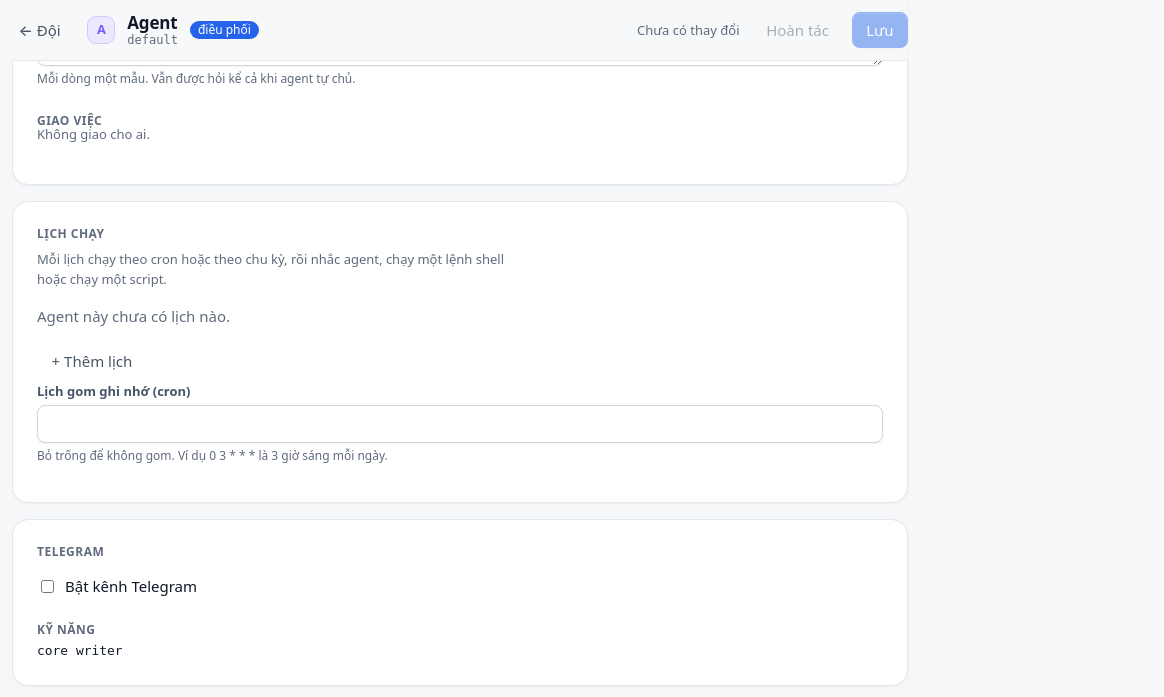
it: the schedules part of the agent editor › saves a new row as exactly one timing and one action, with no kind
The width and height of the screenshot is (1164, 697).
(page scrolled)
Click the button "+ Thêm lịch" at (92, 361), box [37,341,147,381]
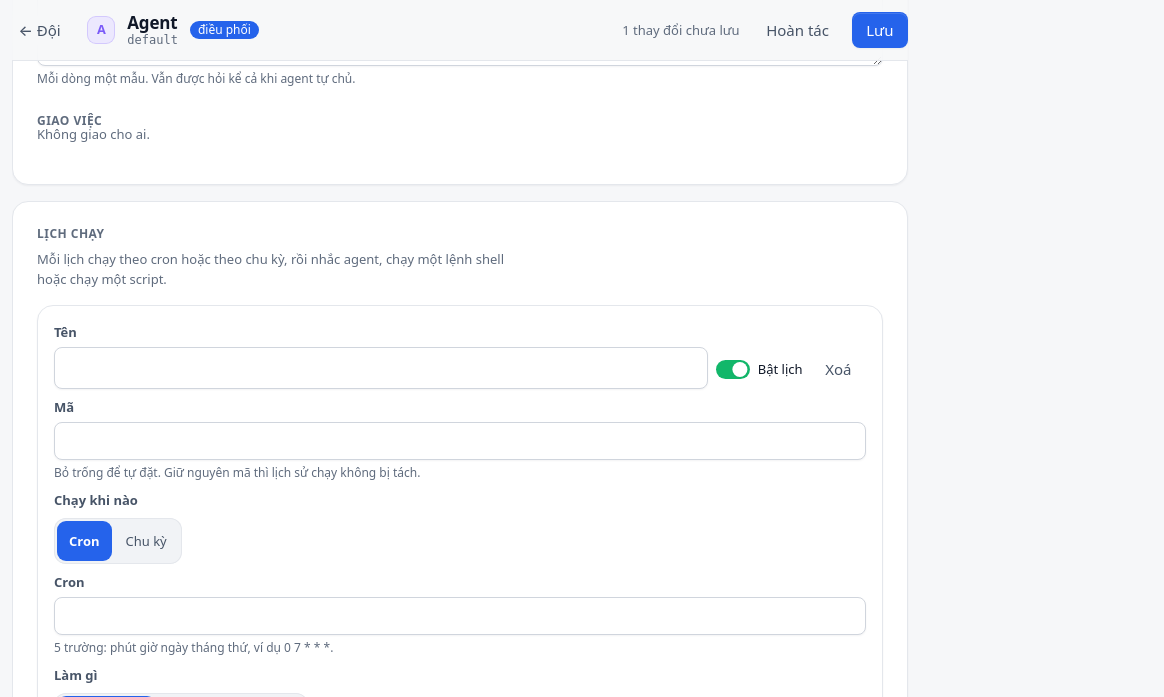
Type "Bản tin" into the field labelled "Tên" at (381, 368), box [54,347,708,389]
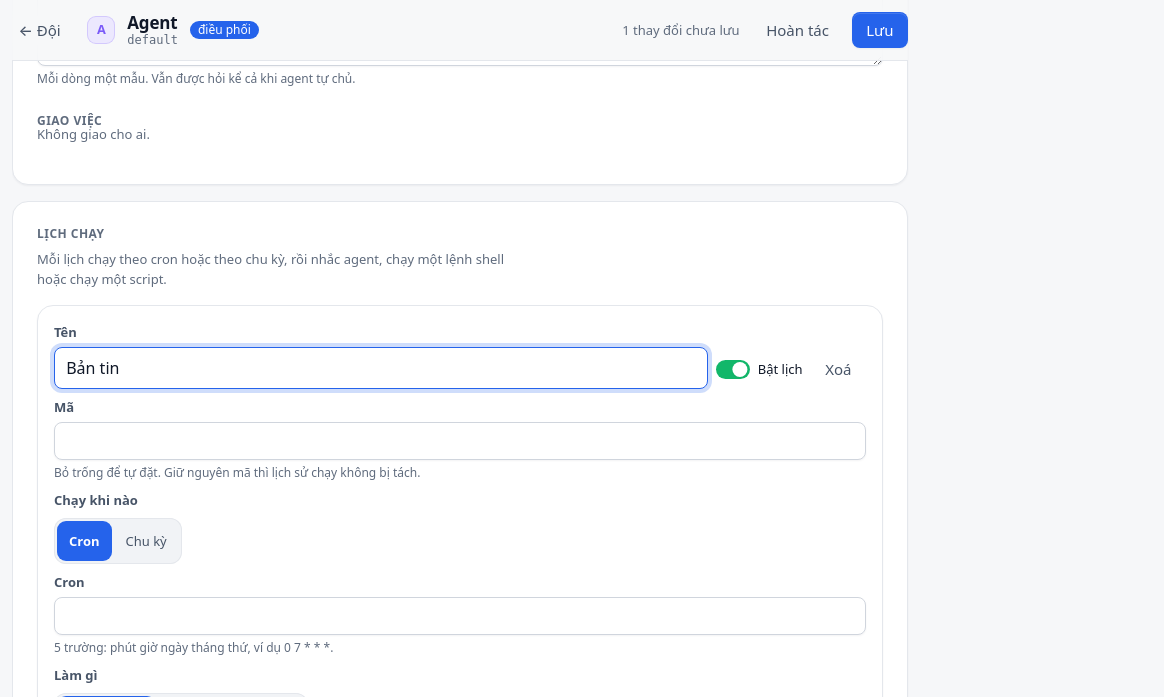
Type "0 7 * * *" into the field labelled "Cron" at (460, 616), box [54,597,866,635]
(page scrolled)
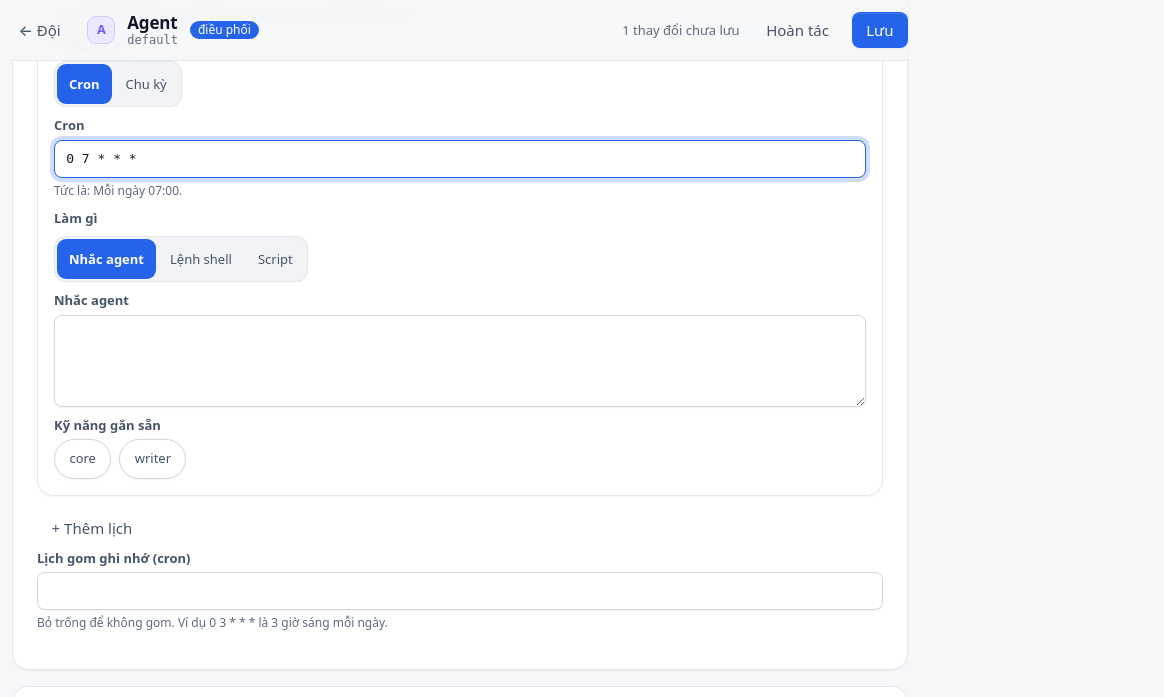
Type "Tóm tắt tin" into the text box labelled "Nhắc agent" at (460, 361), box [54,315,866,407]
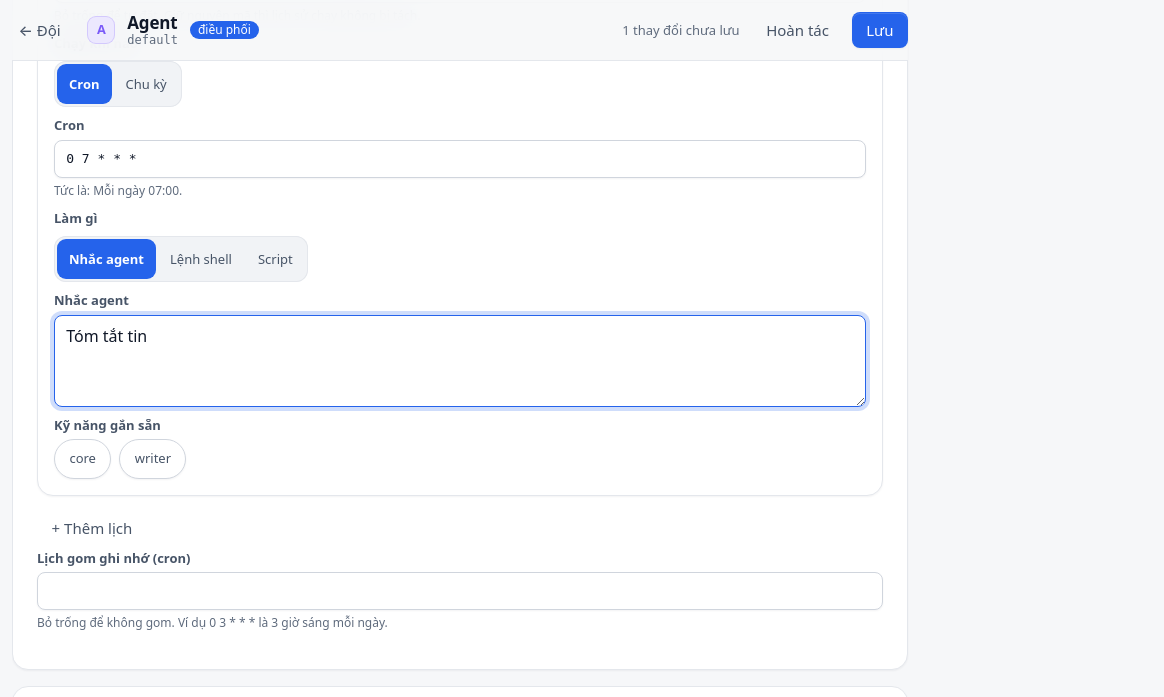
Click the button "Lưu" at (880, 30), box [852,12,908,48]
(page scrolled)
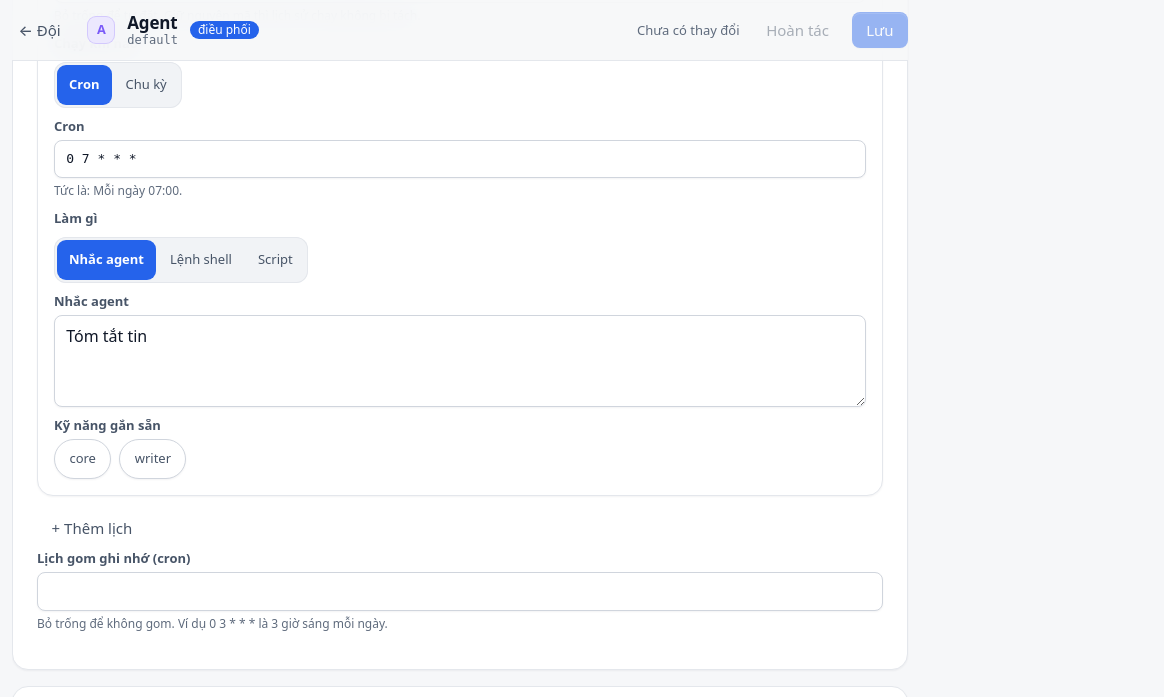
expect the text "Chưa có thay đổi" is shown: met, box [637,20,740,40]
